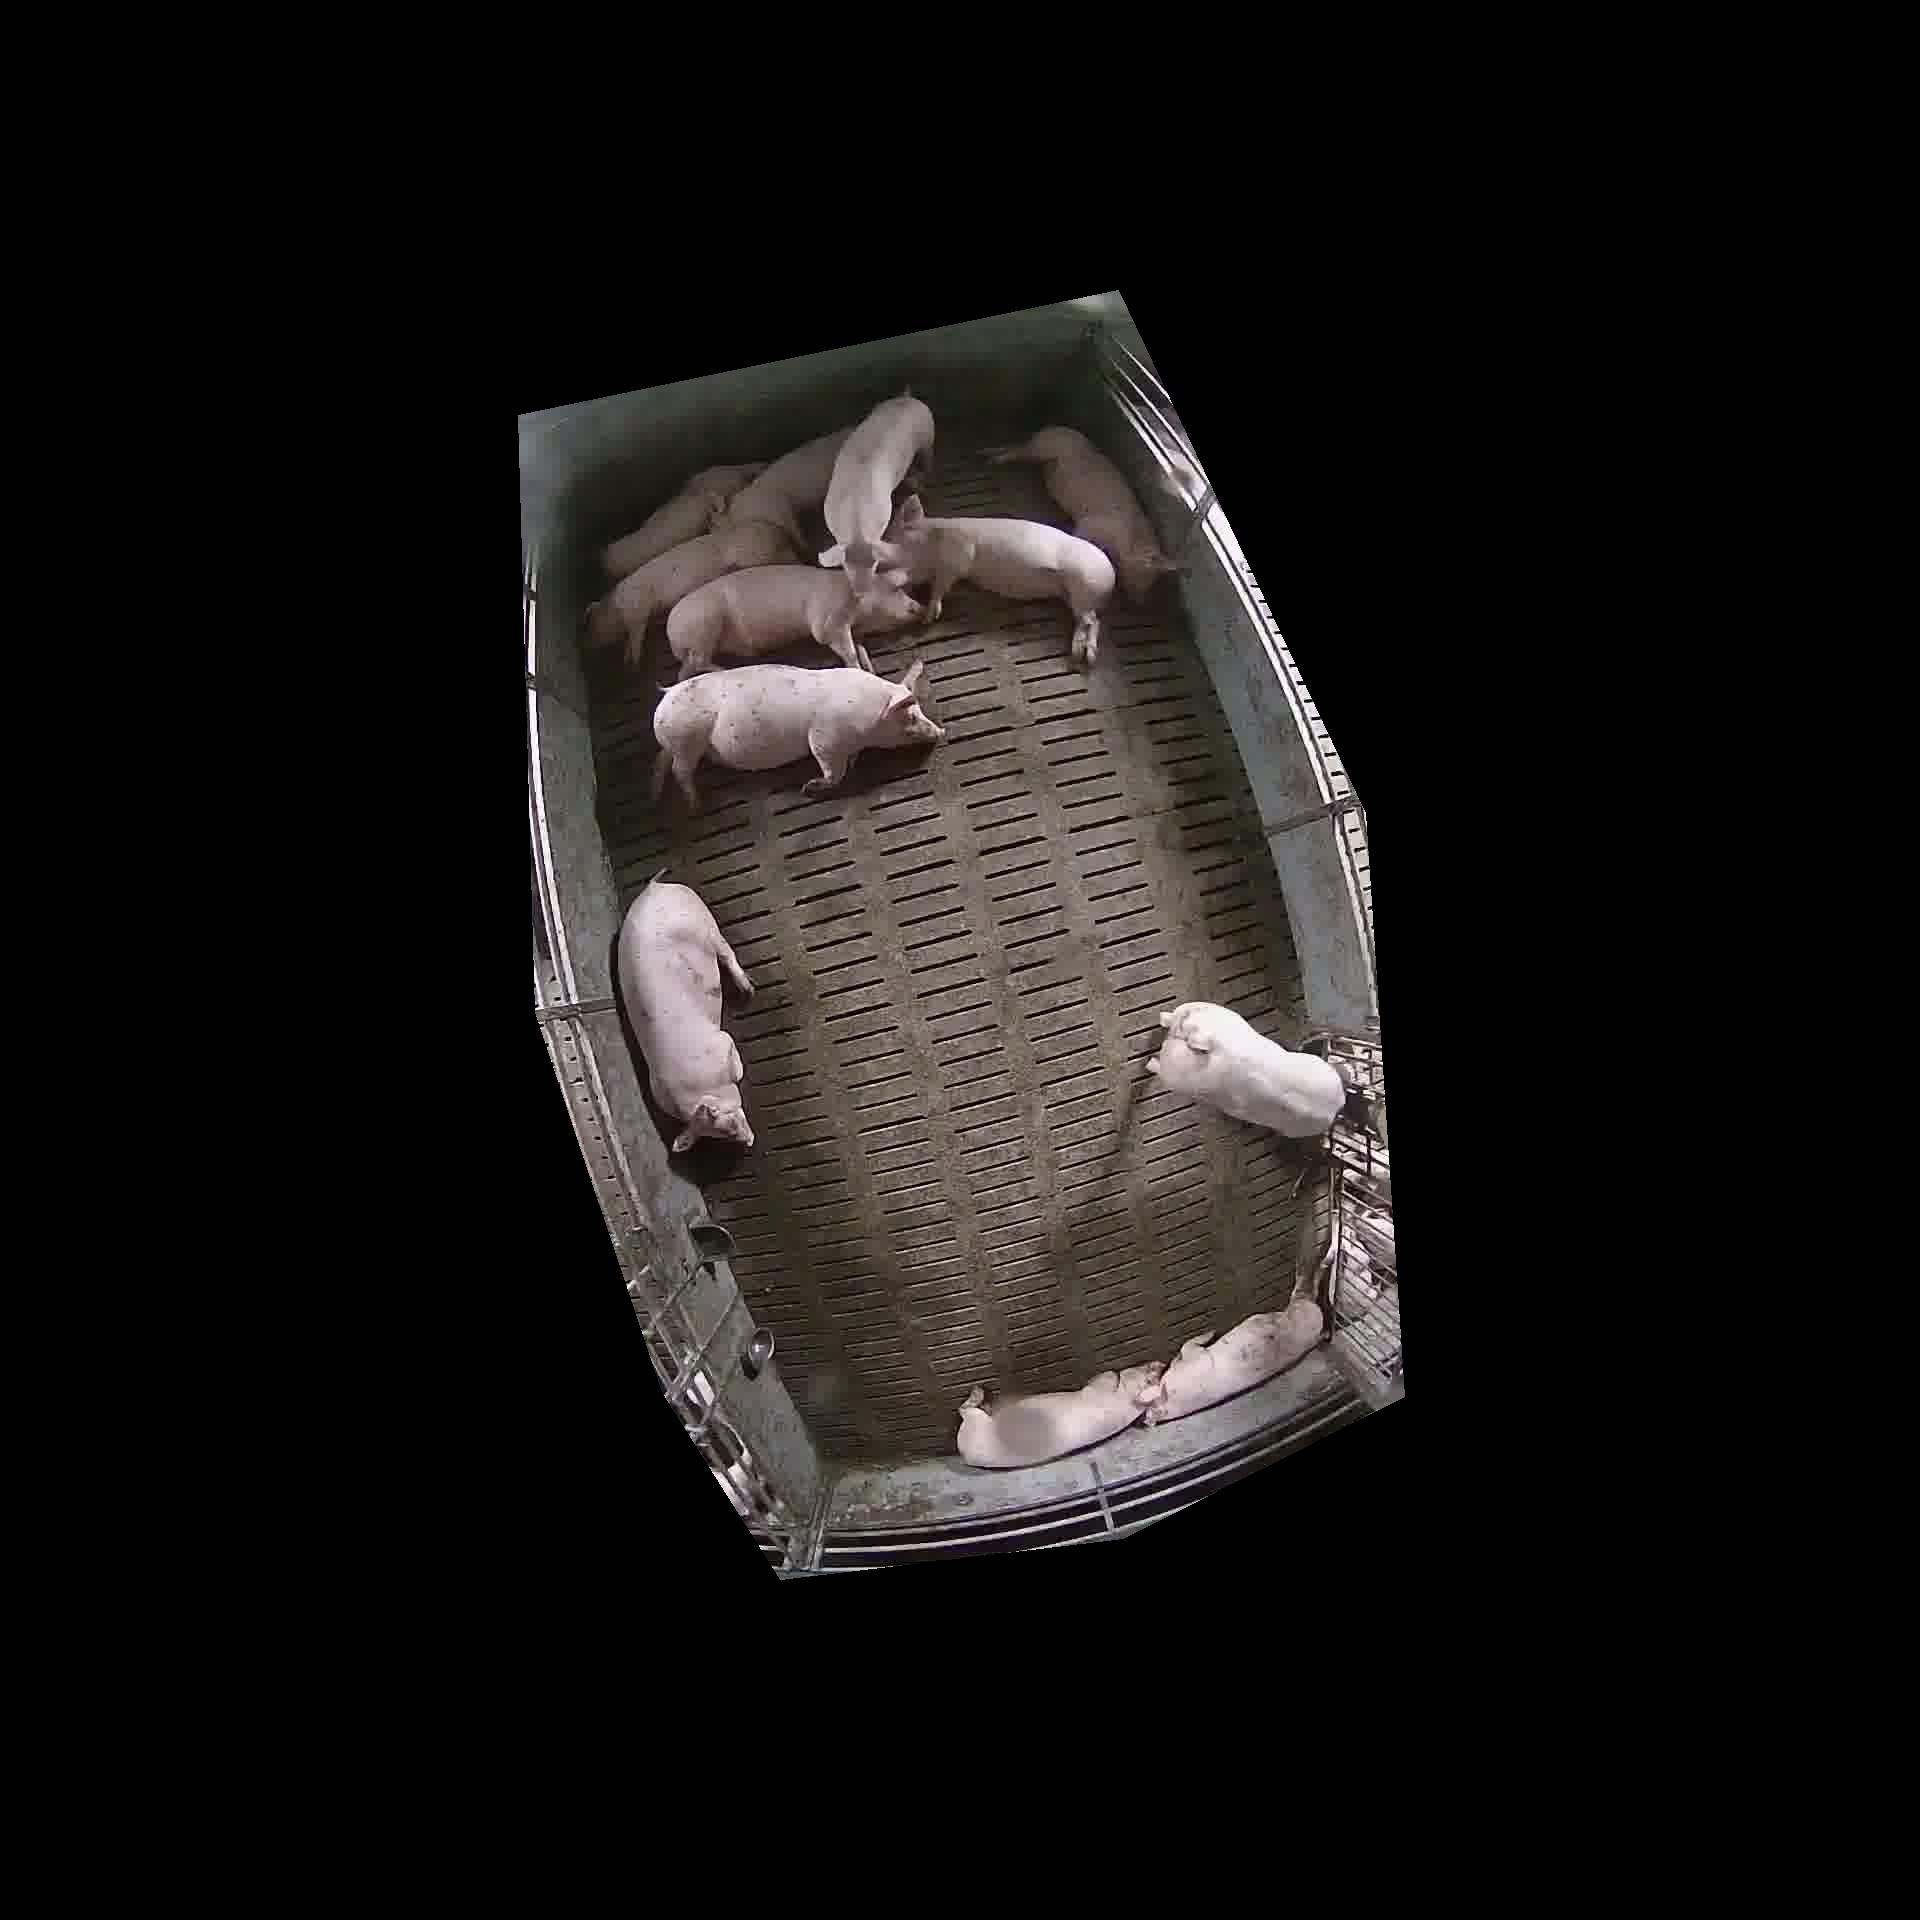pig: (652, 661, 944, 809), (879, 496, 1115, 663), (617, 879, 753, 1152), (988, 425, 1176, 594), (587, 520, 796, 665), (666, 564, 927, 675), (1148, 1002, 1343, 1138), (1145, 1298, 1324, 1422), (819, 394, 934, 584), (956, 1363, 1162, 1466), (601, 462, 763, 580), (717, 431, 847, 547)
